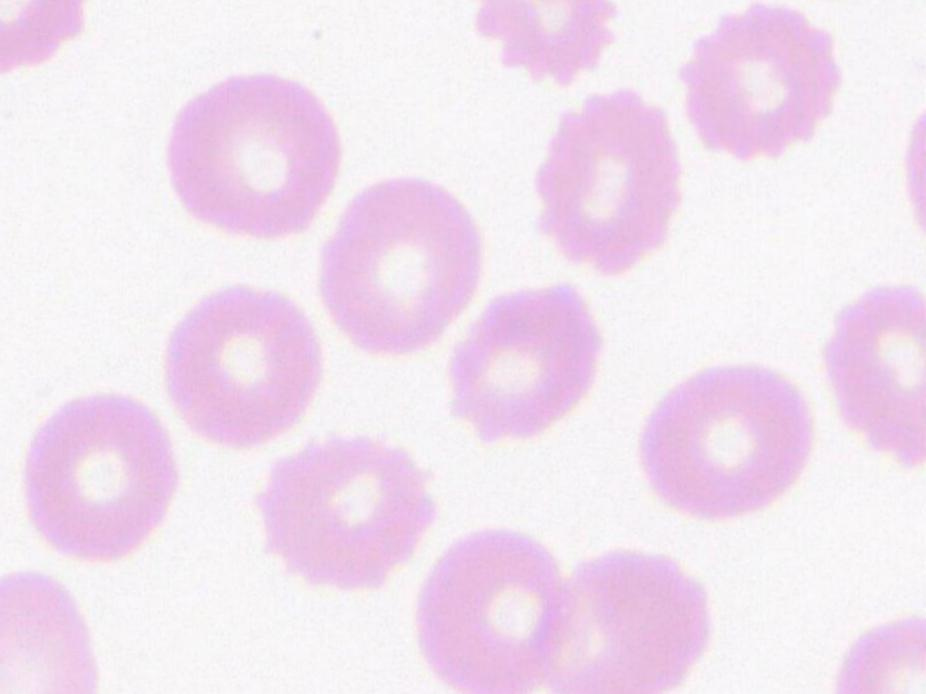Uninfected: (257, 432, 433, 599), (413, 526, 580, 694), (320, 176, 480, 351), (533, 86, 676, 272), (168, 77, 337, 231), (642, 362, 813, 514), (163, 284, 317, 449), (23, 389, 174, 555), (445, 284, 597, 448), (540, 552, 710, 694), (680, 2, 840, 152), (820, 286, 926, 460)
